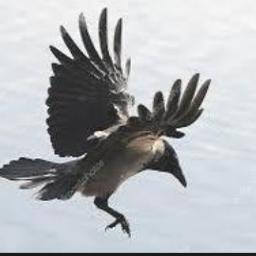Crow: (0, 6, 210, 238)
